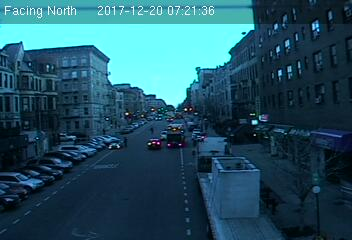car: (108, 139, 124, 151), (147, 138, 161, 148)
truck: (193, 136, 285, 240), (166, 123, 186, 148)
